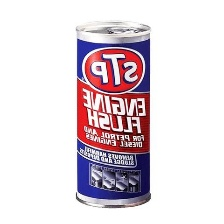cleaning_solution: (70, 18, 157, 211)
